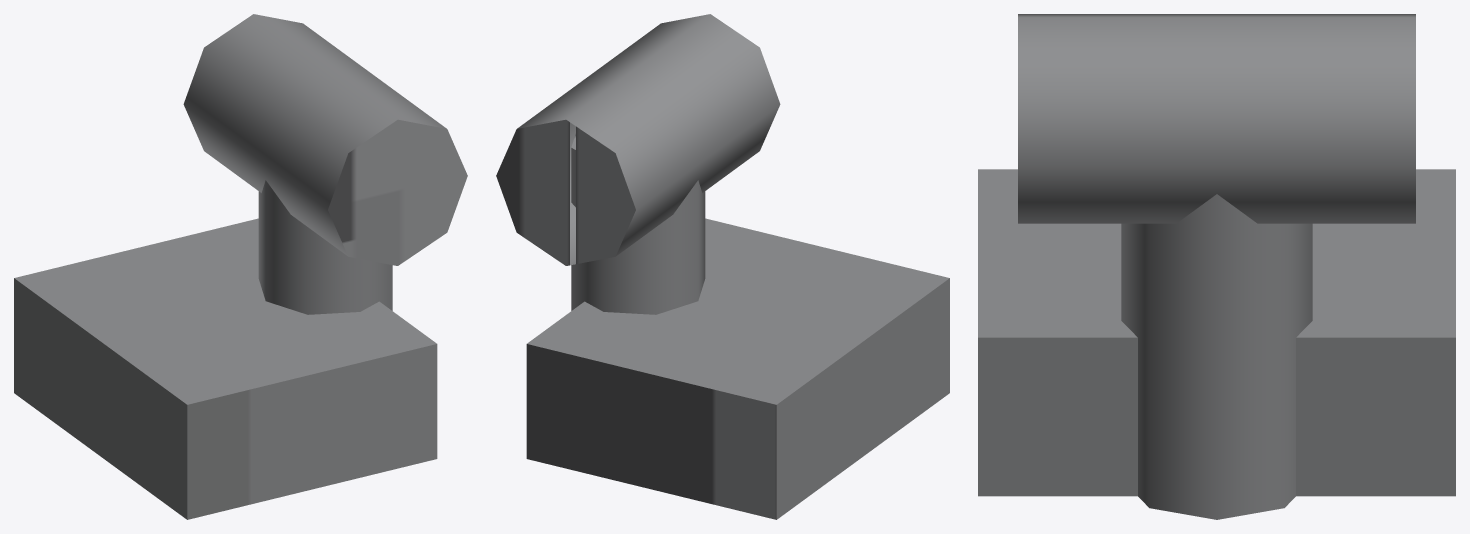
The picture shows the model from 3 angles, left to right: view 1: azimuth 30°, elevation 25°; view 2: azimuth 150°, elevation 25°; view 3: azimuth 270°, elevation 25°; orthographic projection. The views are drawn at different scales.
Size of the model in its own units: 0.0543 by 0.0589 by 0.0552.
